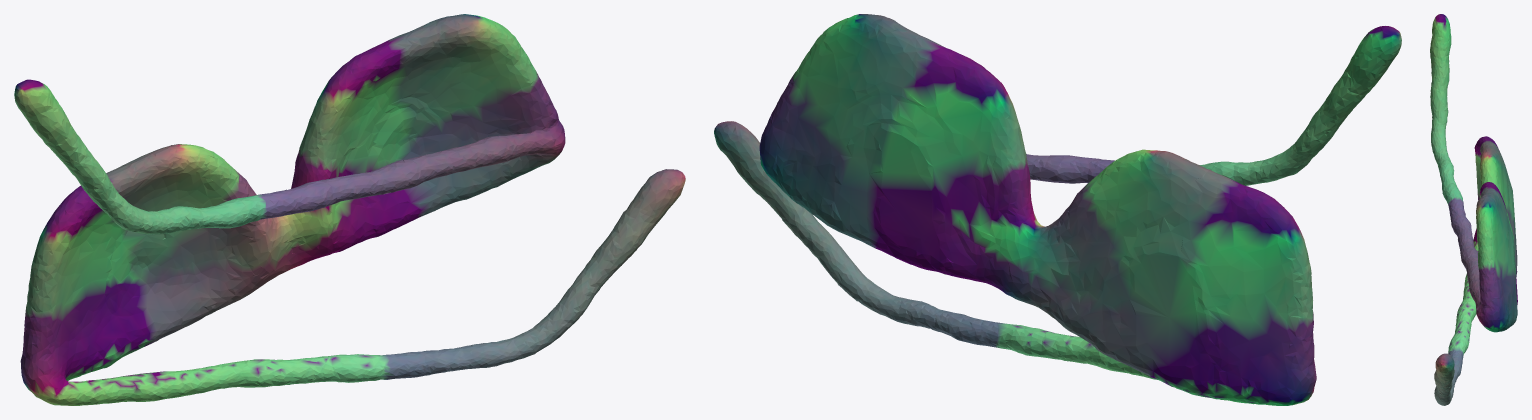
Rendered from glasses-4.off.obj.
3 views of the same model, side by side, from view 1: azimuth 30°, elevation 25°; view 2: azimuth 150°, elevation 25°; view 3: azimuth 270°, elevation 25° (orthographic). The views are drawn at different scales.
Size of the model in its own units: 1.59 by 0.9074 by 0.2968.
